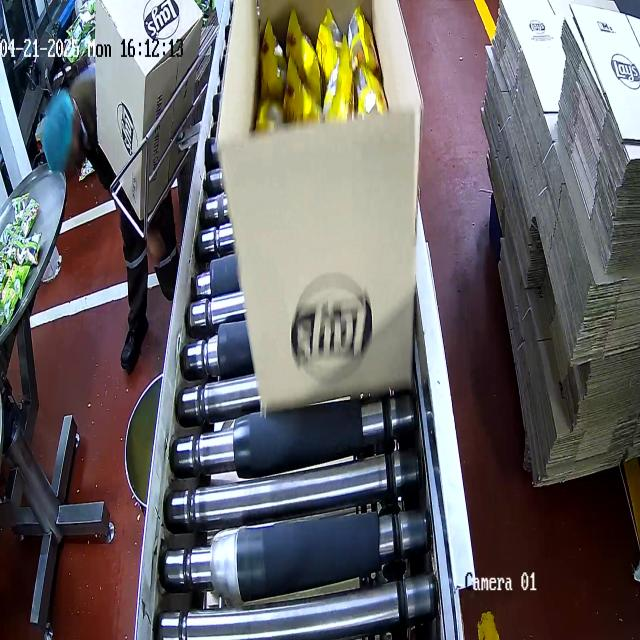SALTED: (254, 0, 407, 132)
